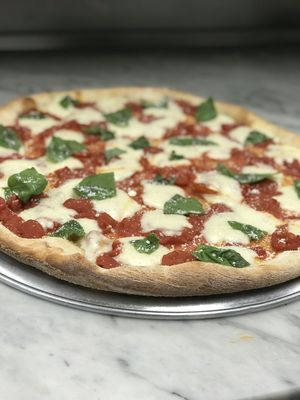sandwich: (0, 87, 300, 298)
